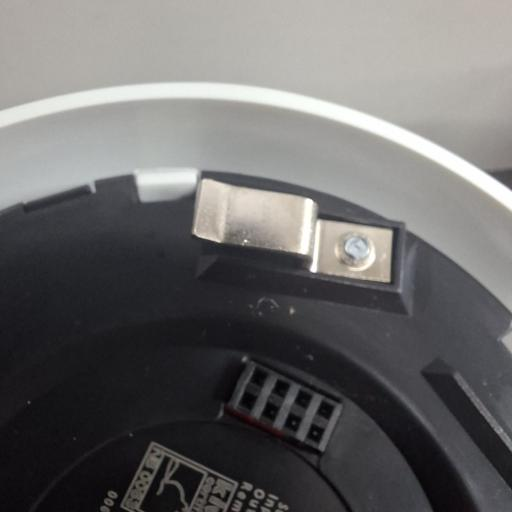yaysiz: (190, 175, 401, 284)
